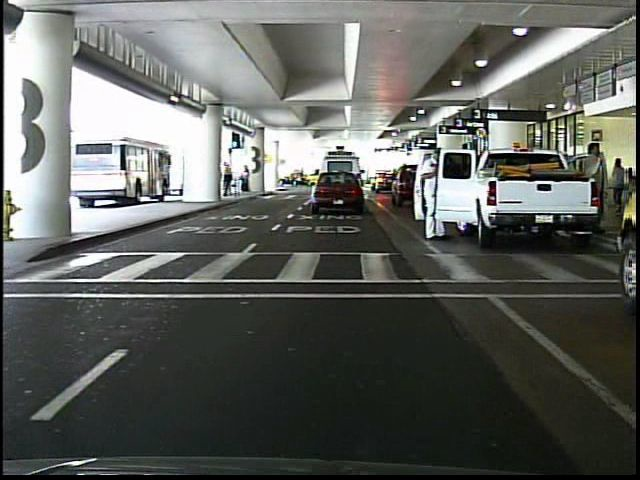person: (417, 141, 455, 245), (577, 139, 609, 227), (608, 154, 629, 216), (222, 159, 235, 198), (240, 164, 255, 195)
